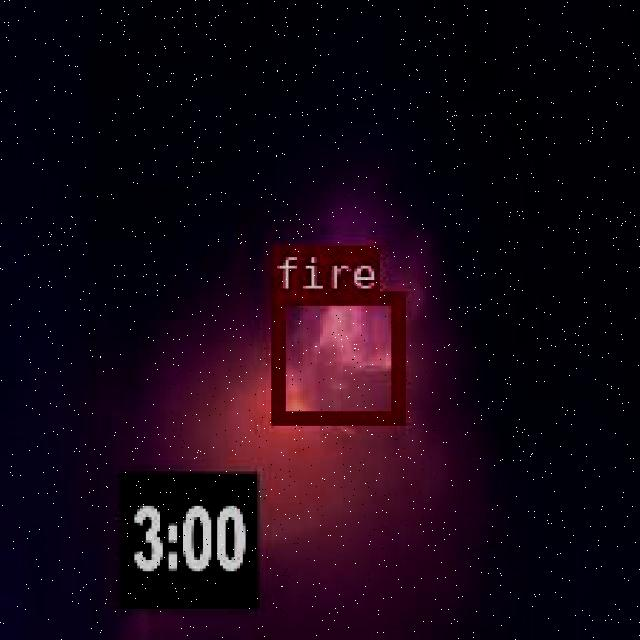fire: (269, 288, 402, 422)
